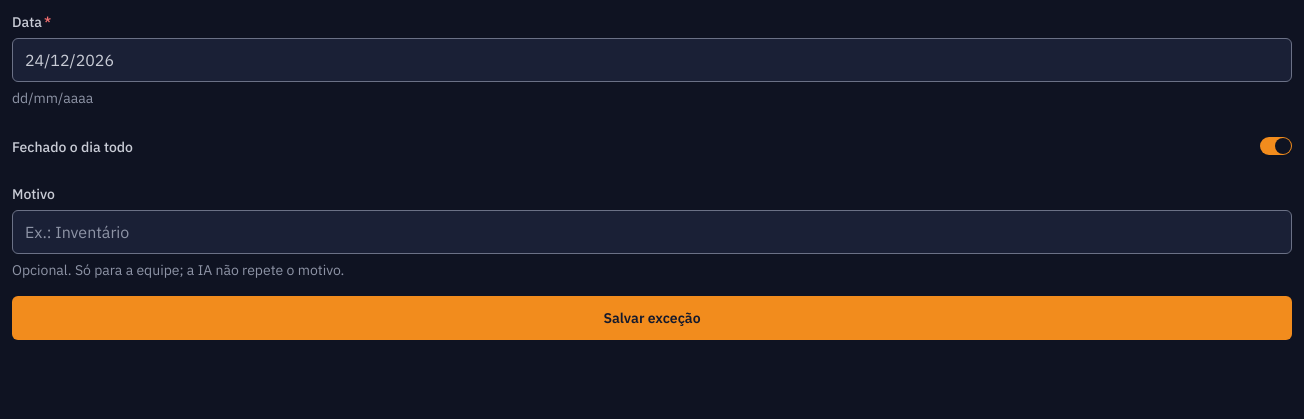
Test case: ExcecaoForm › ação que lança vira erro geral em português
Click the button "Salvar exceção" at point(652, 318), box [12,296,1292,340]
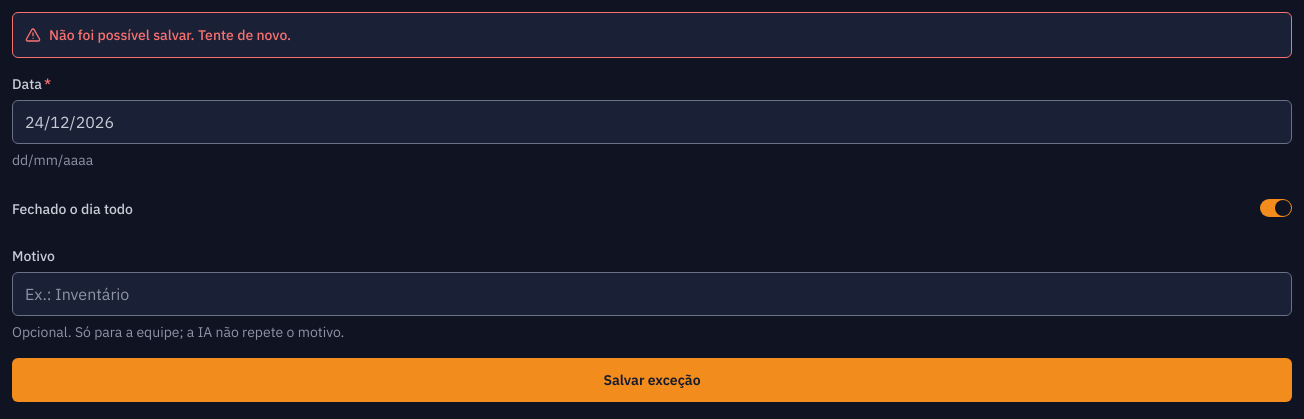
expect the message reads "Não foi possível salvar. Tente de novo.": met, box [49,26,291,44]
